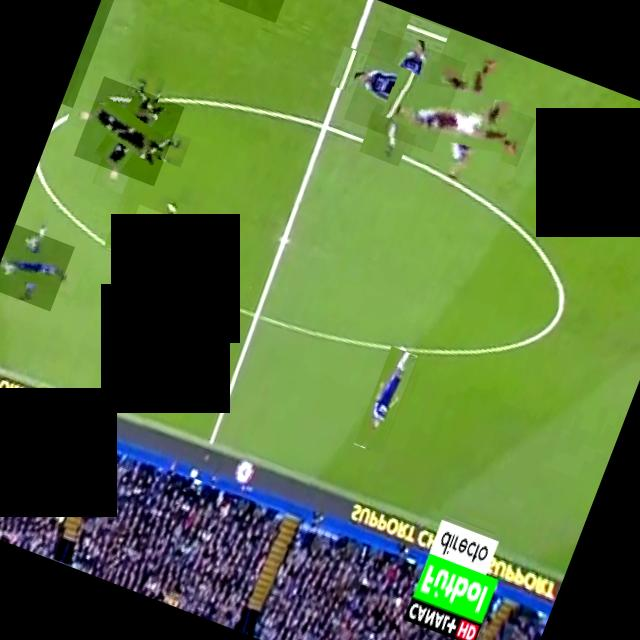referee: (73, 75, 184, 185)
soccer-player: (392, 48, 526, 184), (343, 28, 466, 152), (114, 204, 204, 294), (354, 345, 419, 454), (61, 0, 122, 107), (0, 223, 74, 310), (217, 0, 295, 22)
